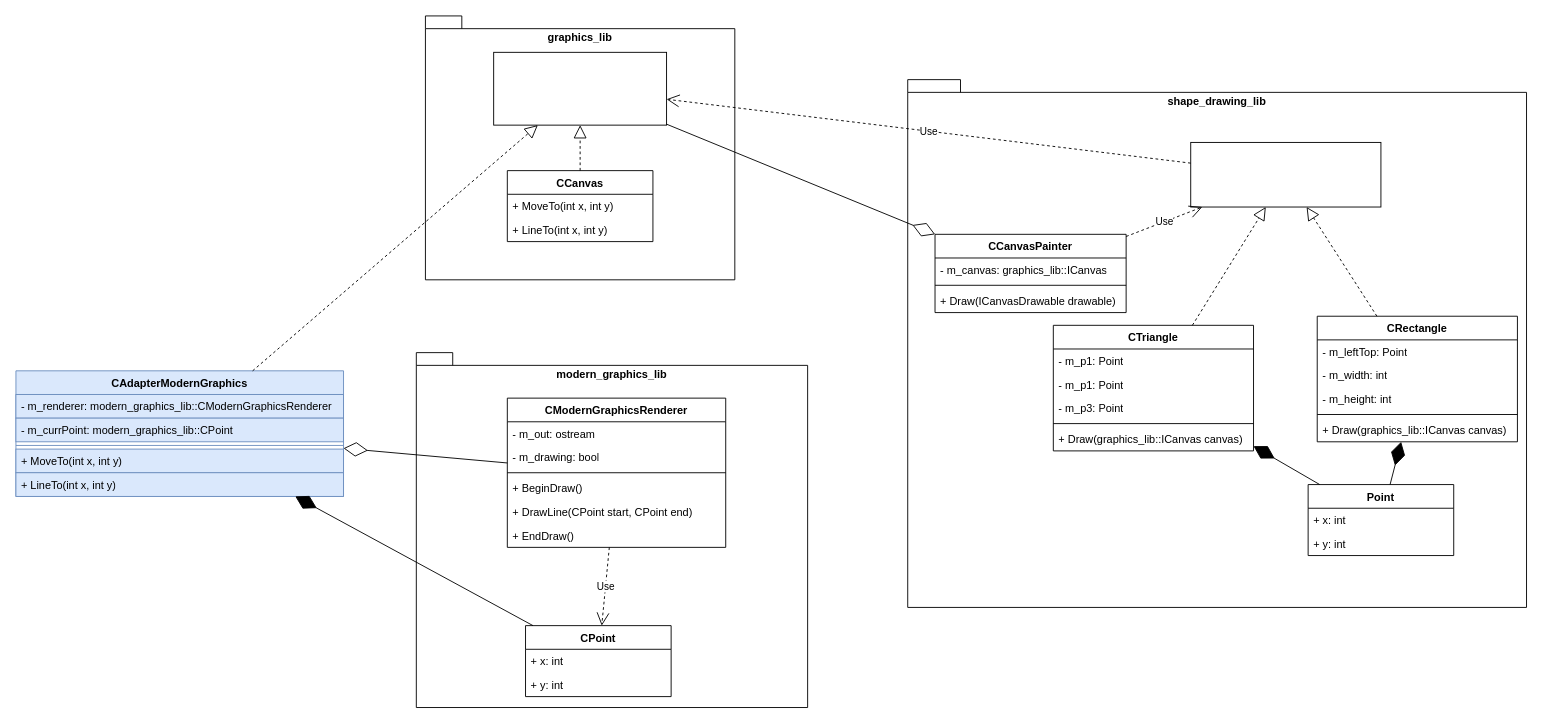
Image size: 1542x723. Some labels were removed from this diagram. Here are the shapes that lost their labels. From the top down, the centre of each, then its label:
At point (580, 88): "<<Interface>> ICanvas + MoveTo(int x, int y) + LineTo(int x, int y)".
At point (1285, 174): "<<Interface>> ICanvasDrawable + Draw(graphics_lib::ICanvas canvas)".
